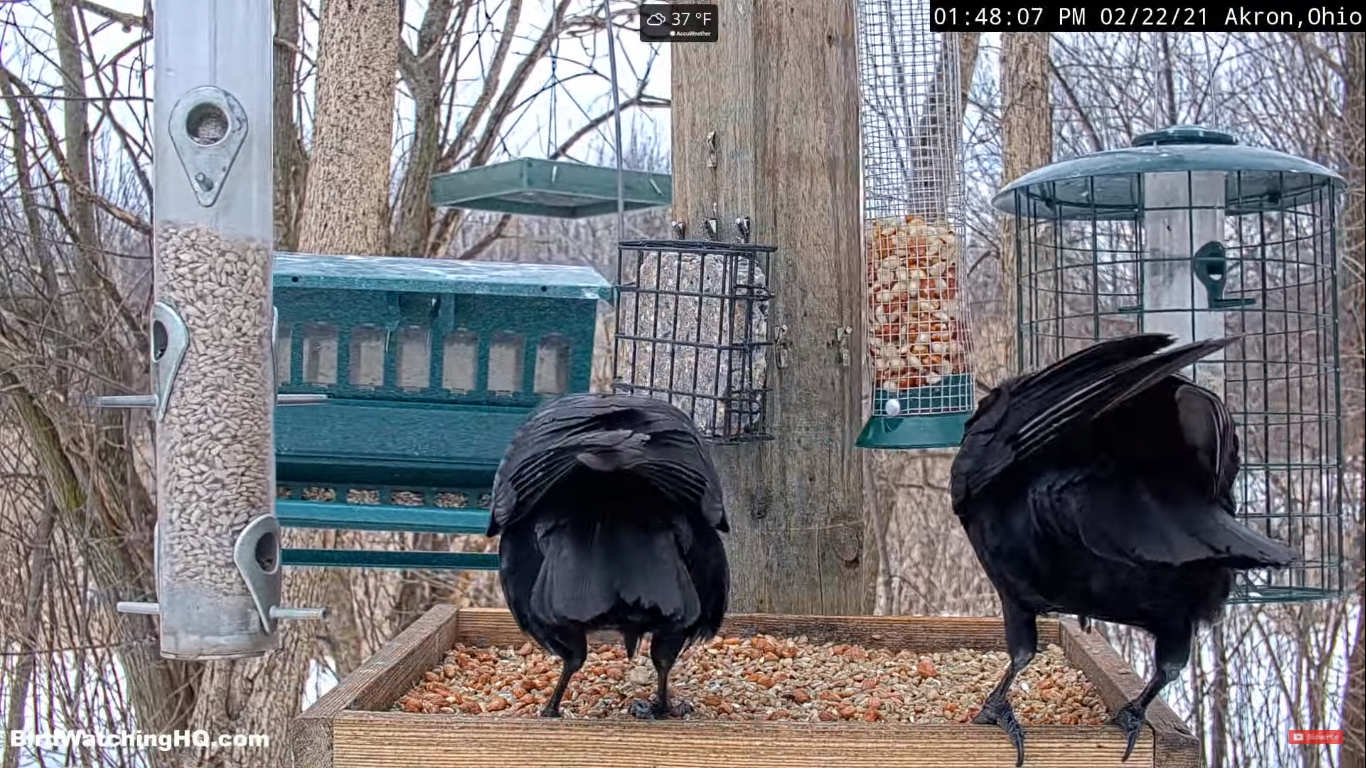bird: (951, 335, 1298, 762), (487, 393, 731, 719)
